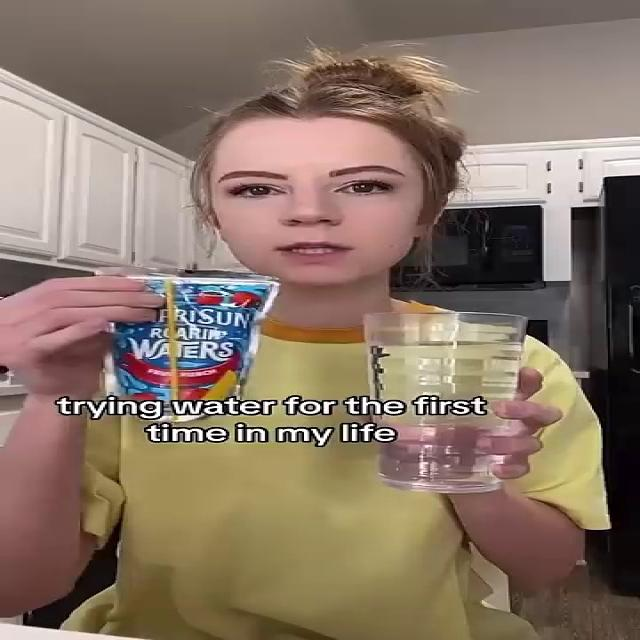Cup: (361, 310, 528, 494)
Hand: (347, 361, 573, 493)
Mouth: (261, 238, 361, 262)
